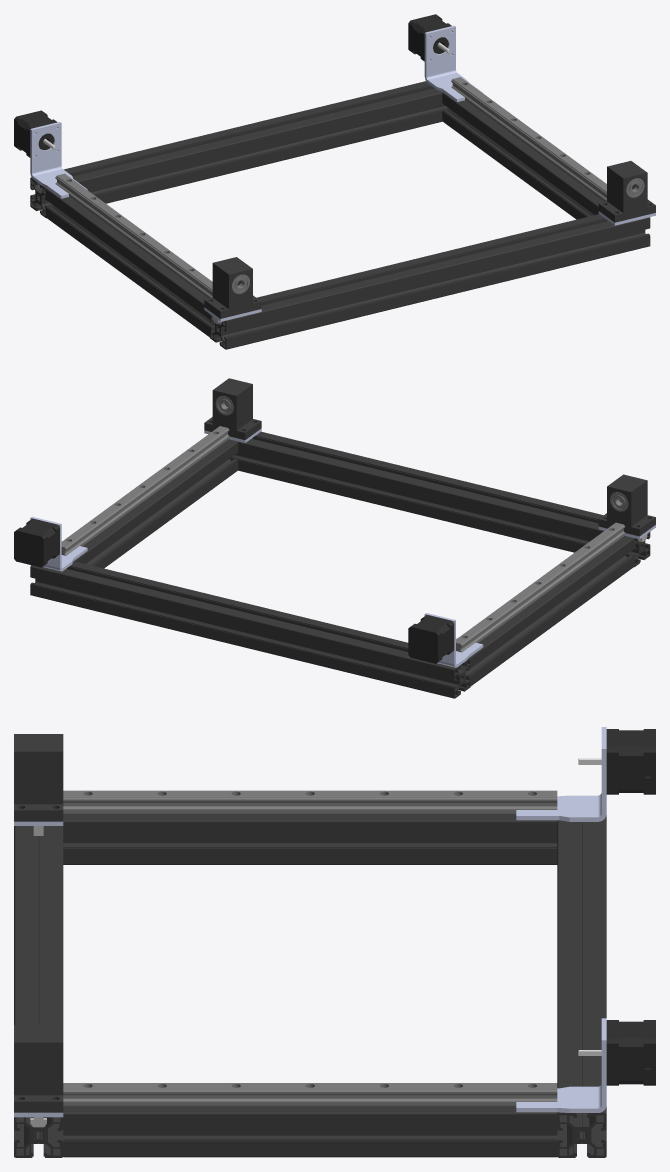
3 renders of one model, top to bottom at view 1: azimuth 30°, elevation 25°; view 2: azimuth 150°, elevation 25°; view 3: azimuth 270°, elevation 25°, orthographic. The views are drawn at different scales.
Parts seen in each view (by area): view 1: base_link; view 2: base_link; view 3: base_link.
Part boxes in pixels (x1=…): base_link: x1=14, y1=14, x2=655, y2=349; base_link: x1=14, y1=378, x2=655, y2=698; base_link: x1=14, y1=727, x2=655, y2=1157.
Bounding box in the file's own units: 0.616 × 0.1052 × 0.52.
